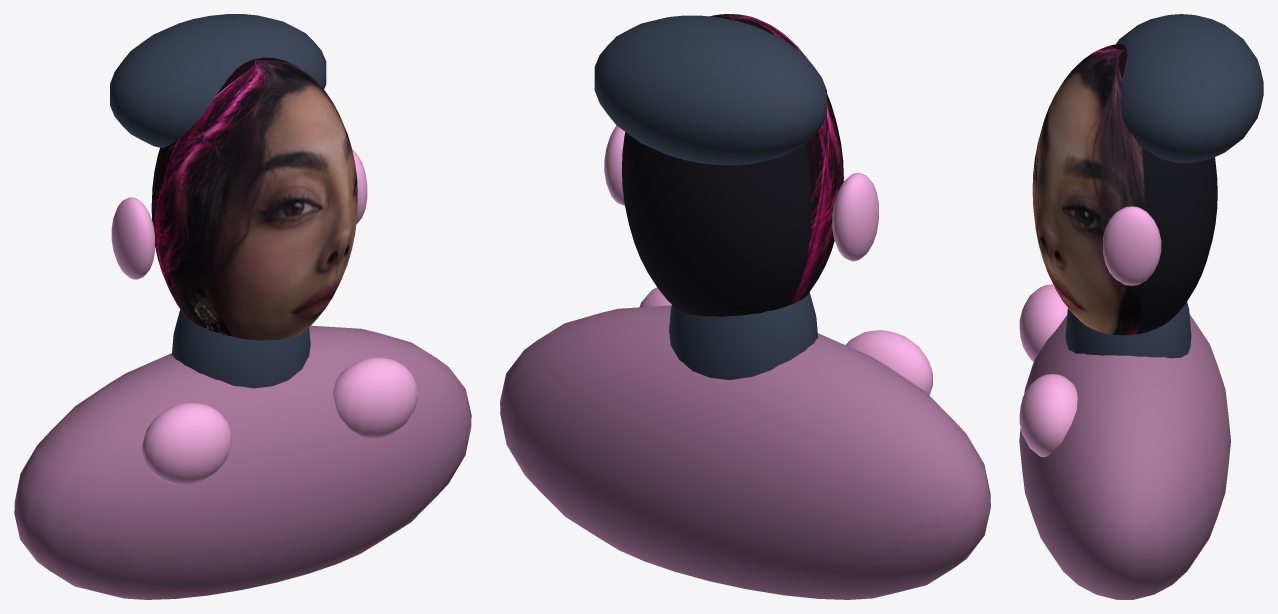
Rendered from performer.glb.
The picture shows the model from 3 angles, left to right: view 1: azimuth 30°, elevation 25°; view 2: azimuth 150°, elevation 25°; view 3: azimuth 270°, elevation 25°; orthographic projection. The views are drawn at different scales.
Size of the model in its own units: 1.53 by 1.68 by 0.7386.
4 materials, 1 textured.
